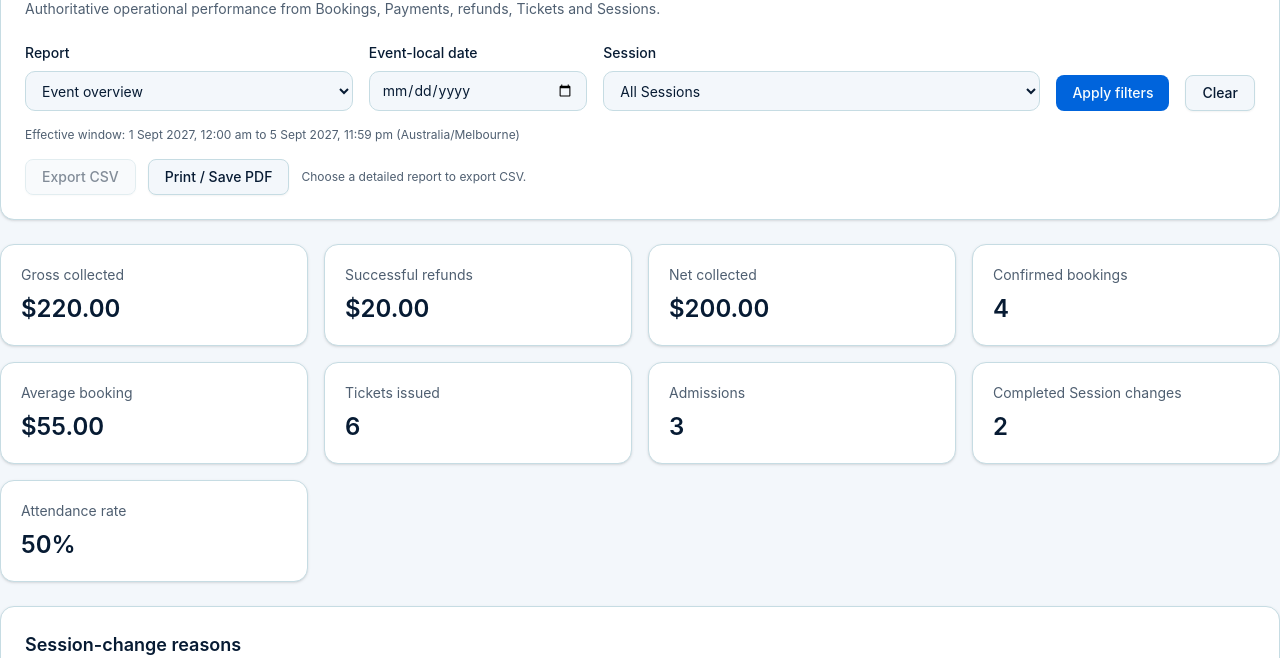
Scenario: EventReportsWorkspace › separates finite Variant inventory from reusable Product capacity
This screenshot has width=1280, height=658.
expect the text "$200.00" is shown: met, box [669,294,769,323]
Select "Product and Variant sales" in the dropdown labelled "Report": (189, 91) [25,71,353,111]
(page scrolled)
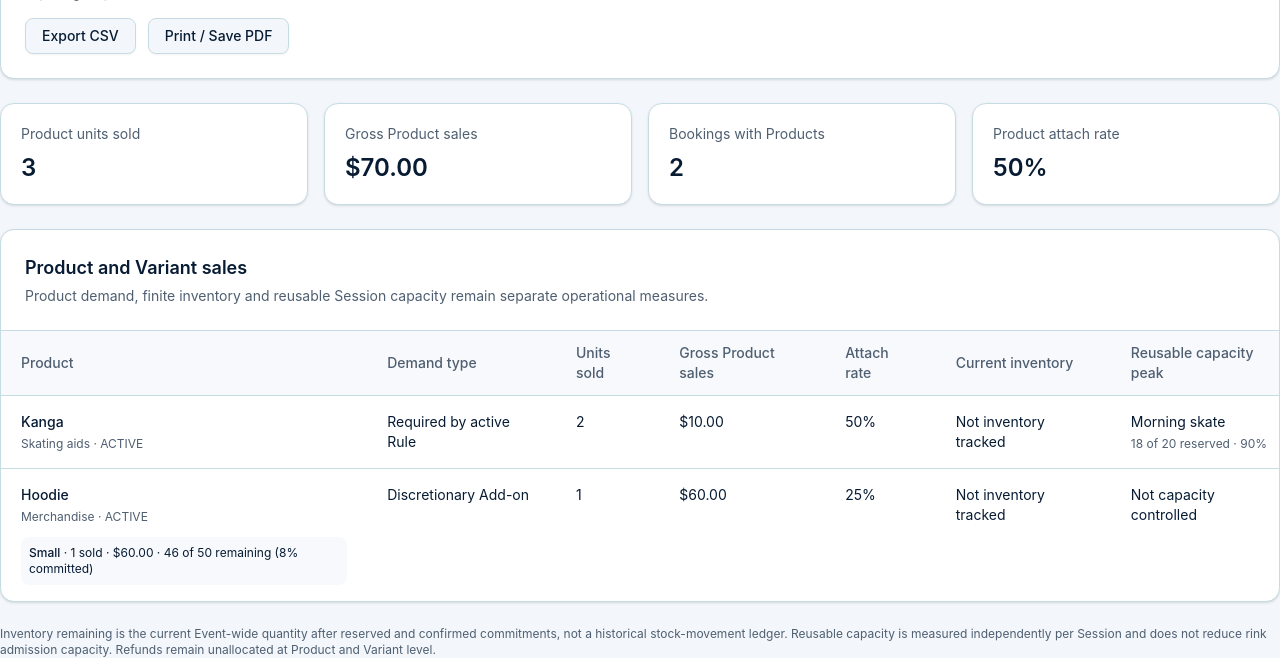
expect the heading "Product and Variant sales" is shown: met, box [25,257,247,278]
expect the text "Required by active Rule" is shown: met, box [367,396,556,468]
expect the text "18 of 20 reserved · 90%" is shown: met, box [1131,436,1279,452]
